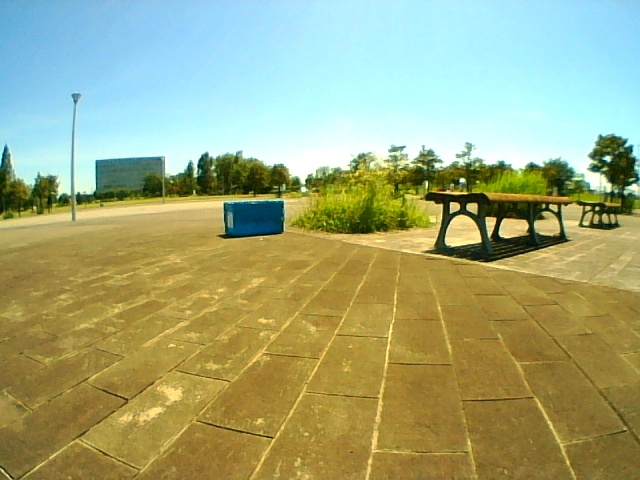blue_box: (225, 202, 285, 235)
tag: (227, 212, 232, 226)
